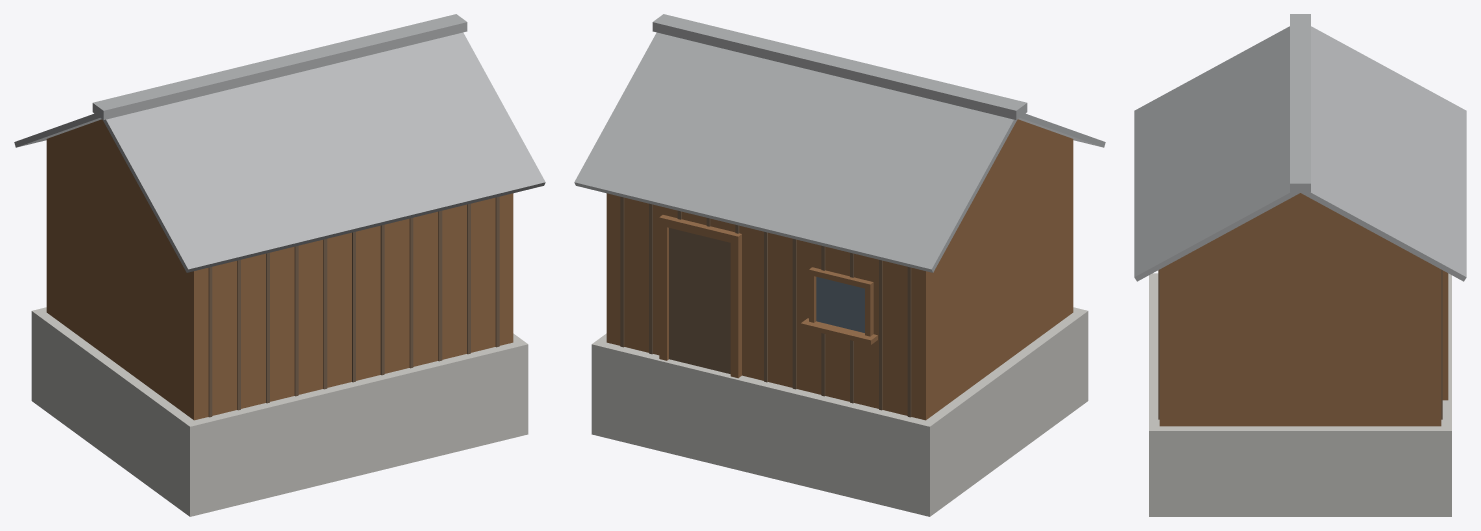
File: shed.glb
3 renders of one model, left to right at view 1: azimuth 30°, elevation 25°; view 2: azimuth 150°, elevation 25°; view 3: azimuth 270°, elevation 25°, orthographic. The views are drawn at different scales.
Visible parts, largest first — view 1: shed; view 2: shed; view 3: shed.
Part boxes in pixels (left/top/right/bottom): shed: left=14, top=14, right=545, bottom=516; shed: left=574, top=14, right=1105, bottom=516; shed: left=1134, top=14, right=1466, bottom=516.
Bounding box in the file's own units: 5.7 × 5.32 × 4.72.
